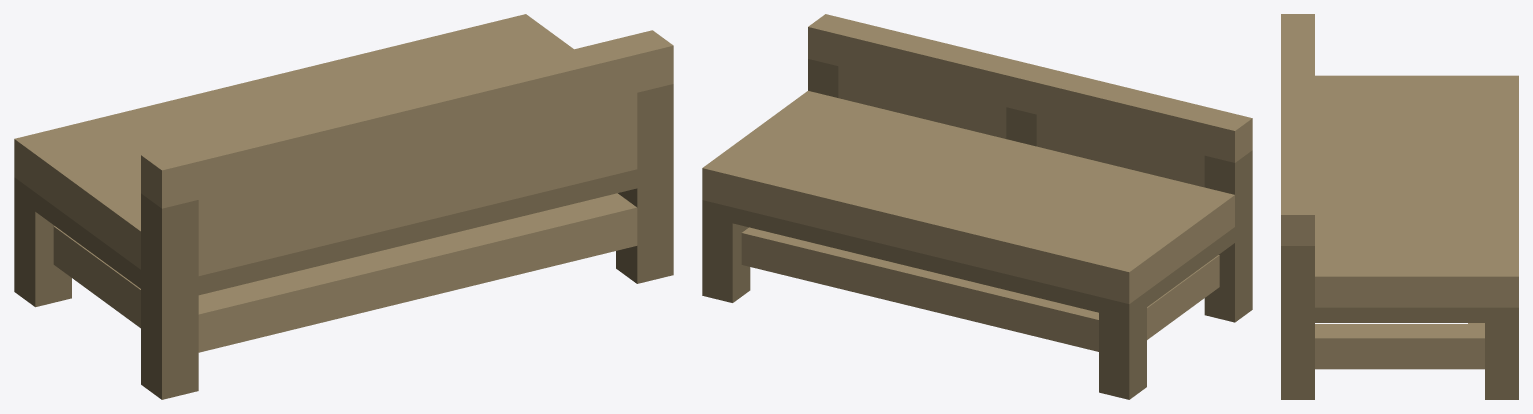
Rendered from banco_tejo_01.glb.
3 views of the same model, side by side, from view 1: azimuth 30°, elevation 25°; view 2: azimuth 150°, elevation 25°; view 3: azimuth 270°, elevation 25° (orthographic). The views are drawn at different scales.
Parts seen in each view (by area): view 1: banco_tejo; view 2: banco_tejo; view 3: banco_tejo.
Boxes of the visible parts, x1=… form: banco_tejo: x1=14, y1=14, x2=673, y2=399; banco_tejo: x1=702, y1=14, x2=1252, y2=399; banco_tejo: x1=1281, y1=14, x2=1518, y2=399.
Bounding box in the file's own units: 2 × 0.8571 × 1.
